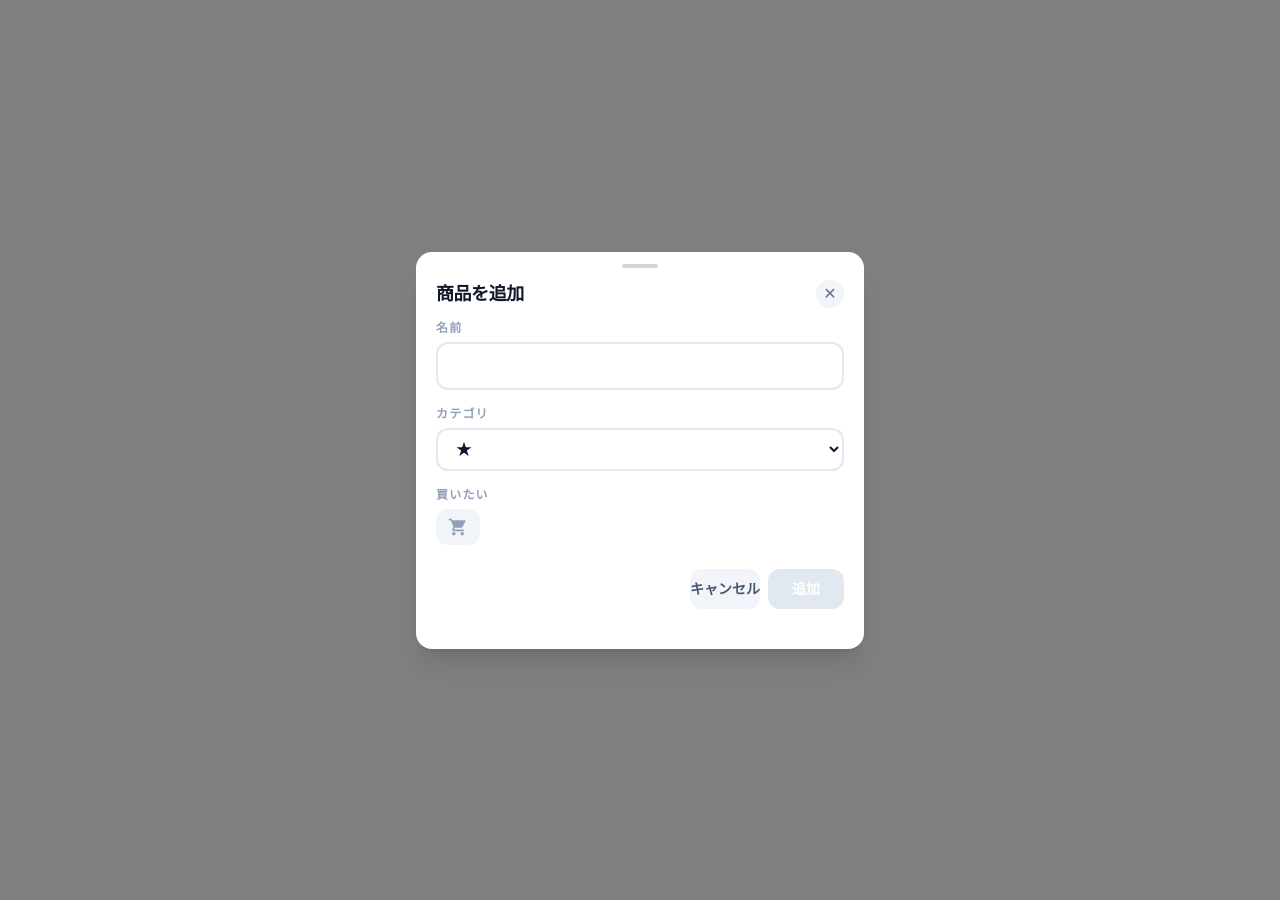
CreateItemModal › 名前を入力すると送信ボタンが enabled になる（カテゴリは初期値で常に有効）
Type "醤油" into the field labelled "名前".
click(640, 366); type("醤油")  # box [436,342,844,390]
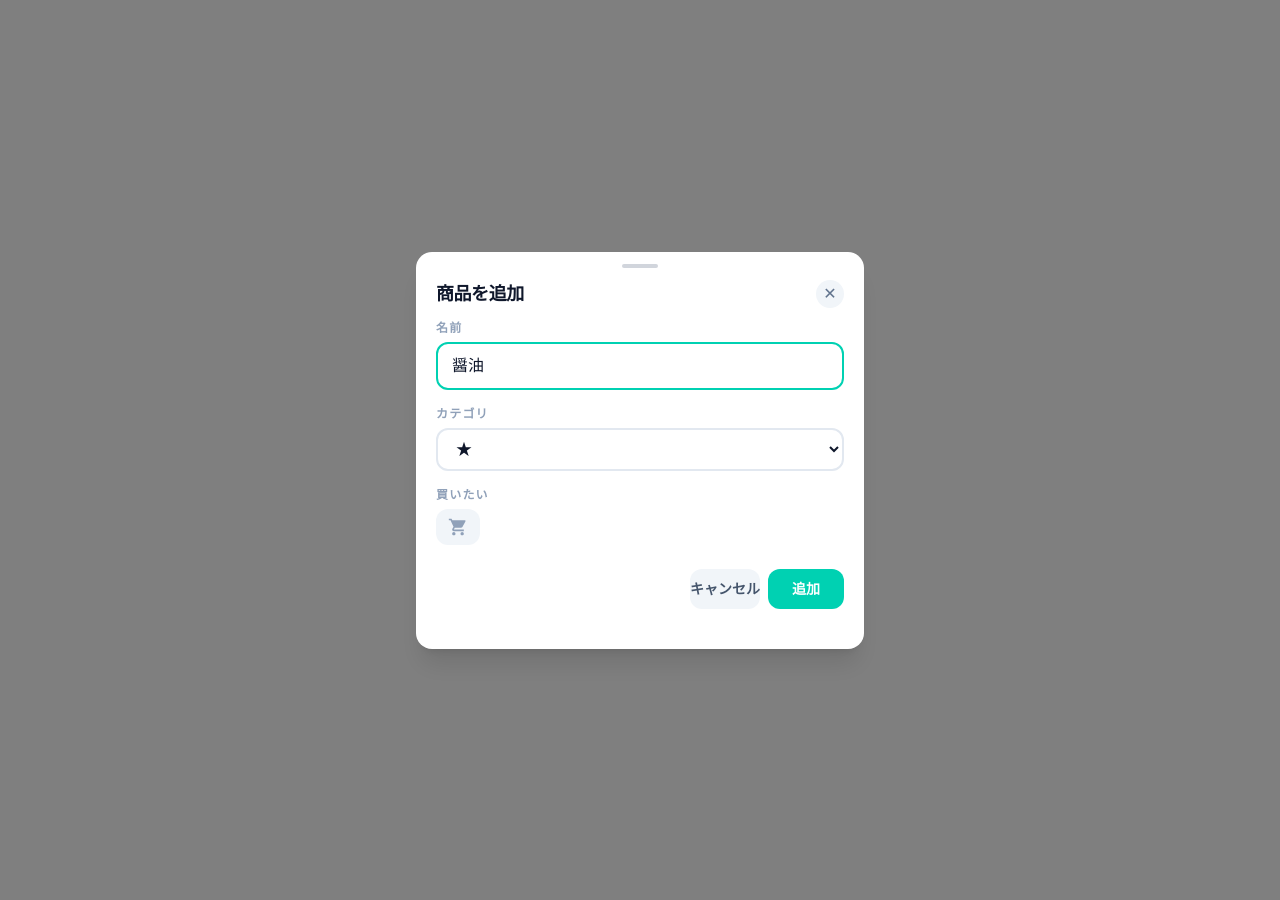
Now the button "追加" is enabled, box [768,568,844,608]
